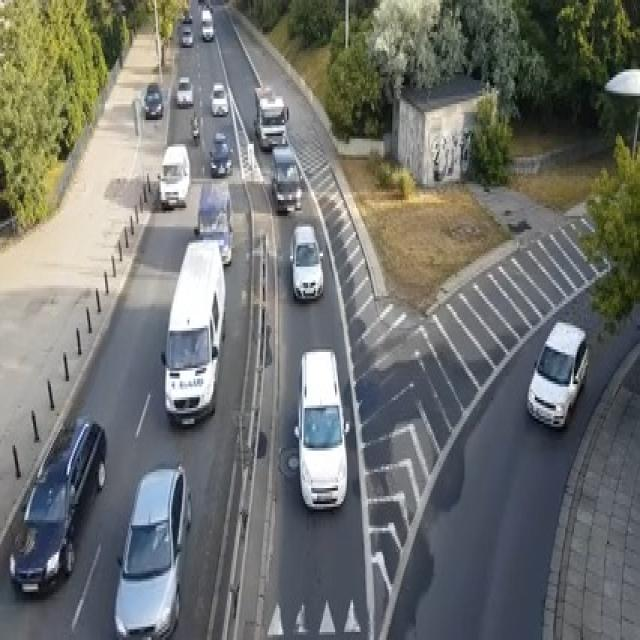bus: (161, 237, 225, 427)
car: (8, 413, 106, 595), (112, 464, 190, 637), (293, 347, 349, 509), (526, 320, 587, 429), (192, 181, 233, 264), (288, 222, 323, 302), (252, 83, 288, 149), (270, 144, 302, 213), (156, 144, 190, 208), (209, 131, 231, 176), (141, 83, 164, 117), (210, 82, 228, 114), (176, 75, 194, 106), (200, 8, 213, 40), (191, 109, 200, 144), (180, 27, 192, 45), (182, 8, 192, 21), (197, 0, 206, 3)
